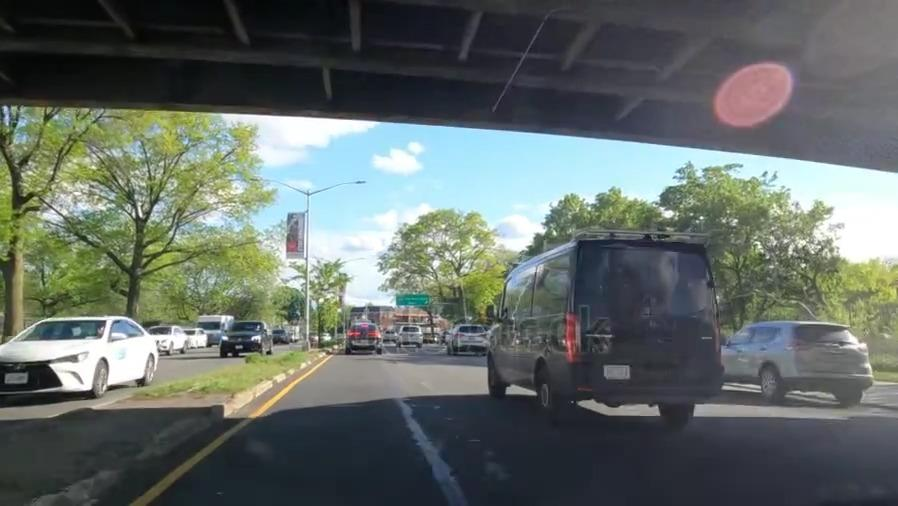car: (0, 313, 165, 402), (729, 325, 882, 404), (222, 320, 277, 355), (444, 323, 490, 355), (344, 323, 381, 355), (153, 326, 189, 351), (393, 325, 424, 347)
person: (82, 322, 111, 340)
van: (500, 251, 725, 415)
wheel: (757, 364, 783, 402), (88, 358, 112, 397), (139, 355, 156, 384)
